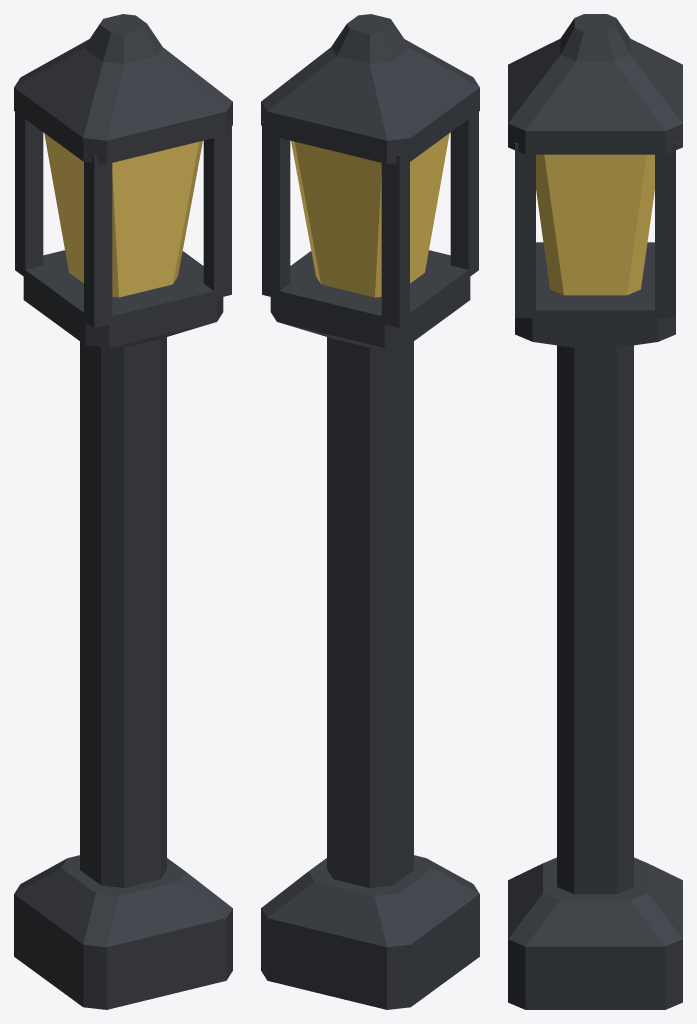
File: MIN_Lantern_Post.fbx
3 renders of one model, left to right at view 1: azimuth 30°, elevation 25°; view 2: azimuth 150°, elevation 25°; view 3: azimuth 270°, elevation 25°, orthographic.
Visible parts, largest first — view 1: Post, Light; view 2: Post, Light; view 3: Post, Light.
Part boxes in pixels (x1=…): Post: x1=14, y1=14, x2=232, y2=1009; Light: x1=44, y1=133, x2=202, y2=297; Post: x1=261, y1=14, x2=479, y2=1009; Light: x1=291, y1=133, x2=449, y2=297; Post: x1=508, y1=14, x2=682, y2=1009; Light: x1=536, y1=154, x2=654, y2=295.
Size of the model in its own units: 1 by 6 by 1.
